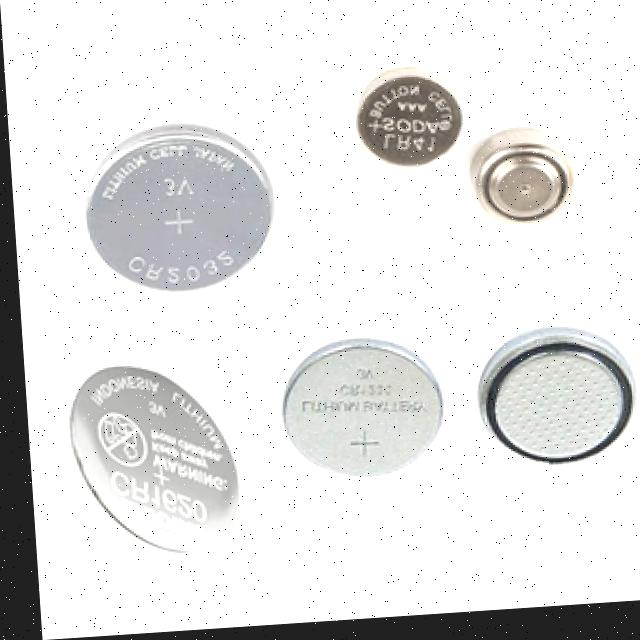battery: (65, 356, 244, 561), (76, 115, 281, 293), (278, 337, 449, 493), (478, 321, 640, 478), (352, 64, 465, 178), (468, 124, 579, 230)
